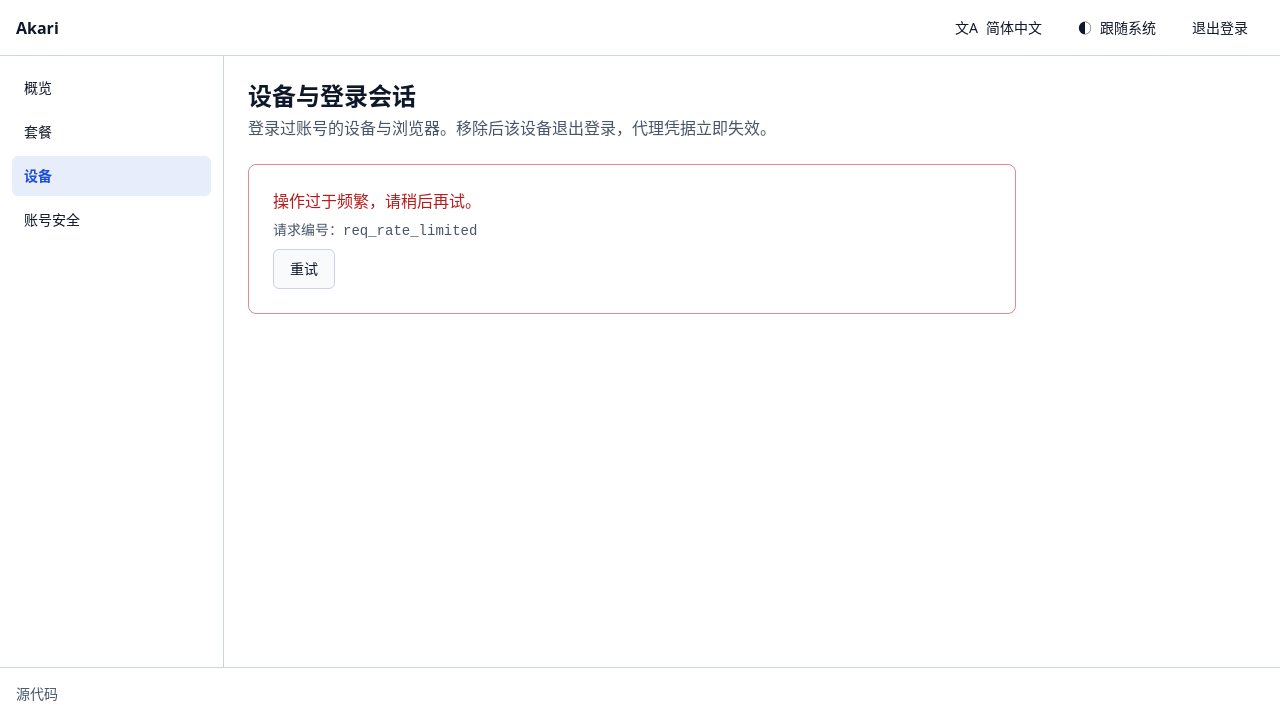
Scenario: 设备列表 › 加载失败时按 code 显示错误与 request_id，可以重试
The width and height of the screenshot is (1280, 720).
Expected: the message shows "操作过于频繁", [273, 190, 481, 212]
Expected: the message shows "req_rate_limited", [273, 223, 477, 239]
Click the button "重试": (304, 269) [273, 249, 335, 289]
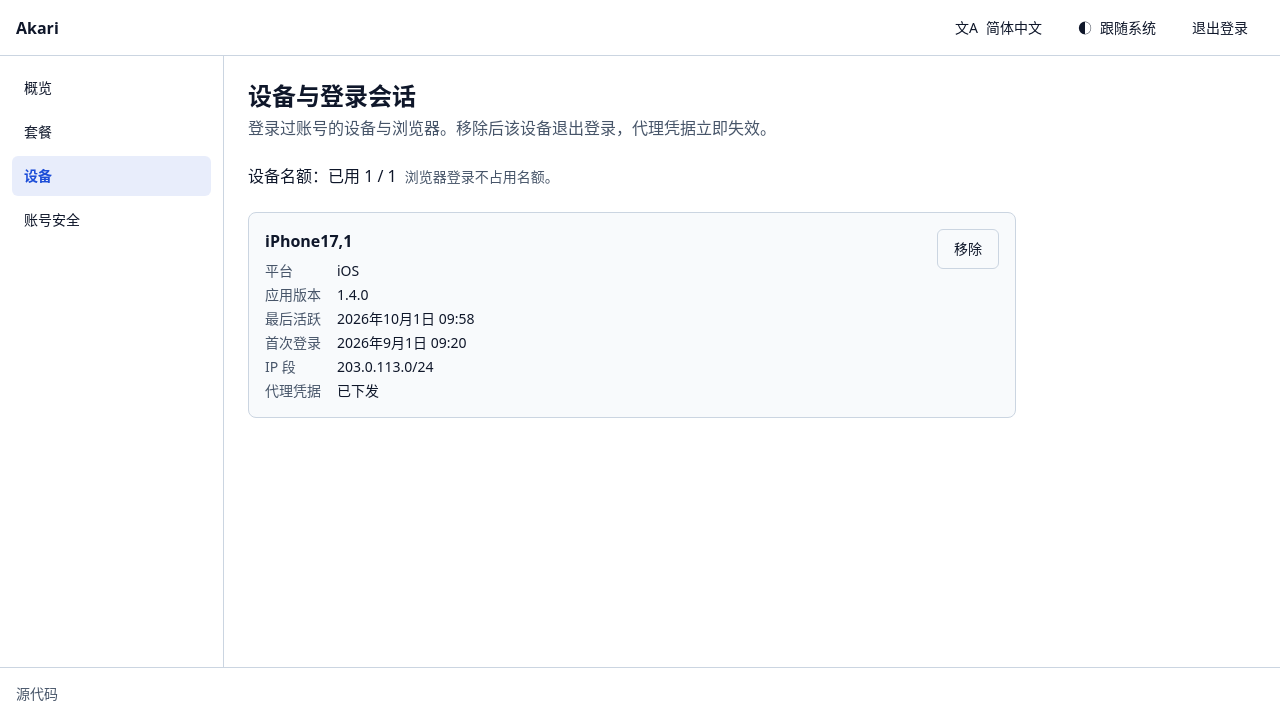
Result: the element "iPhone17,1" is shown at [248, 212, 1016, 418]
